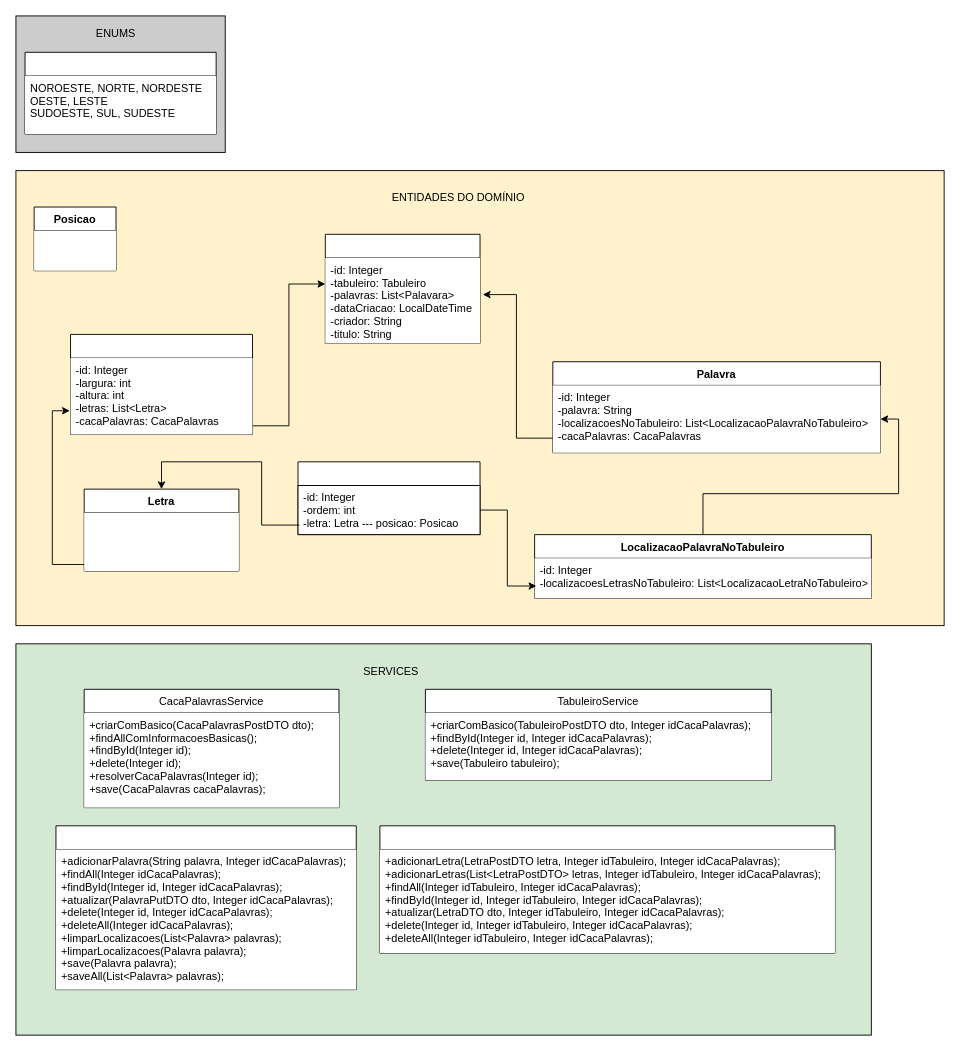
The diagram is 960 pixels wide and 1051 high, and some of its shapes have lost their labels. The box of each missing label's shape, as (x1, y1, x2, y2) in pixels:
-id: Integer -letra: char -posicao: Posicao -tabuleiro: Tabuleiro: (84, 512, 238, 571)
-x: int -y: int: (34, 230, 116, 270)
CacaPalavras: (324, 233, 480, 344)
Direcao: (24, 51, 216, 134)
LetraService: (379, 825, 835, 953)
LocalizacaoLetraNoTabuleiro: (297, 461, 480, 535)
PalavraService: (55, 825, 356, 990)
Tabuleiro: (70, 334, 253, 435)
